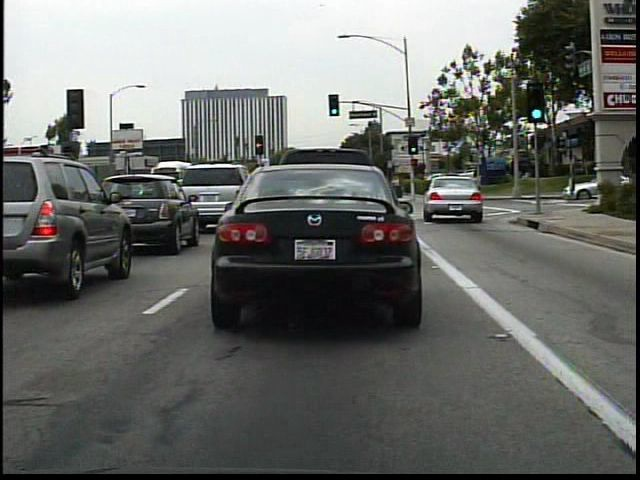person: (390, 173, 408, 201)
